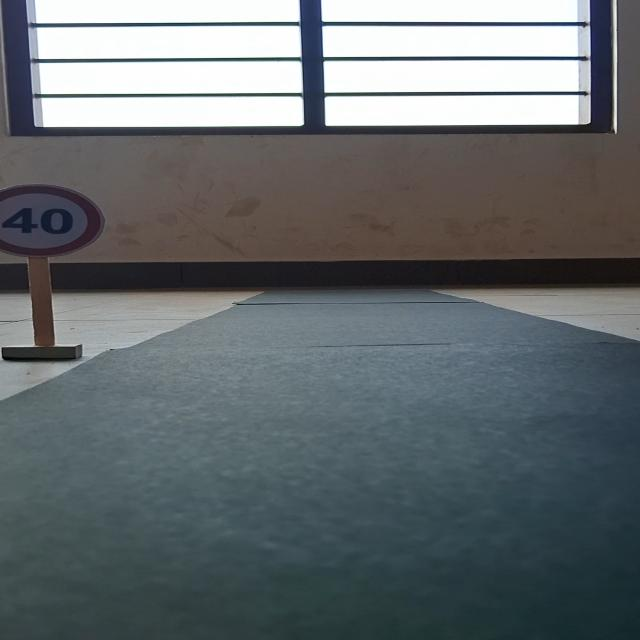Speed40: (0, 175, 107, 261)
